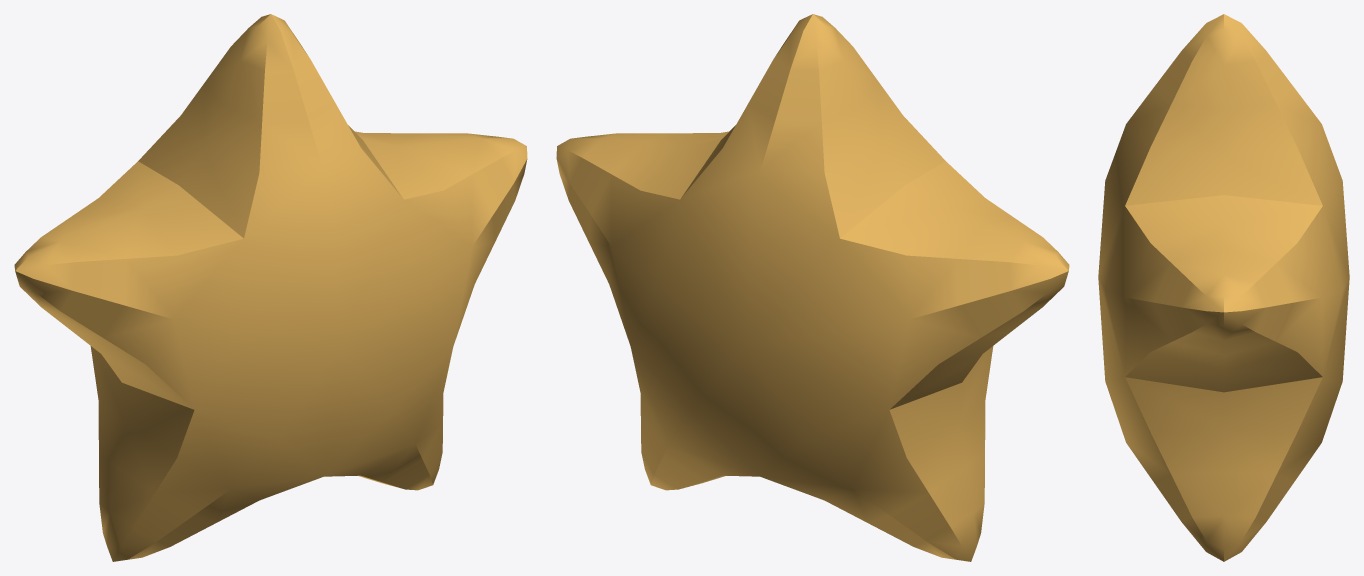
The model's file is Star.gltf.
3 views of the same model, side by side, from view 1: azimuth 30°, elevation 25°; view 2: azimuth 150°, elevation 25°; view 3: azimuth 270°, elevation 25° (orthographic). The views are drawn at different scales.
Parts seen in each view (by area): view 1: Star; view 2: Star; view 3: Star.
Boxes of the visible parts, <box> form: Star: <box>14,14,527,561</box>; Star: <box>556,14,1069,561</box>; Star: <box>1098,14,1349,561</box>.
Size of the model in its own units: 1.51 by 1.44 by 0.6879.
